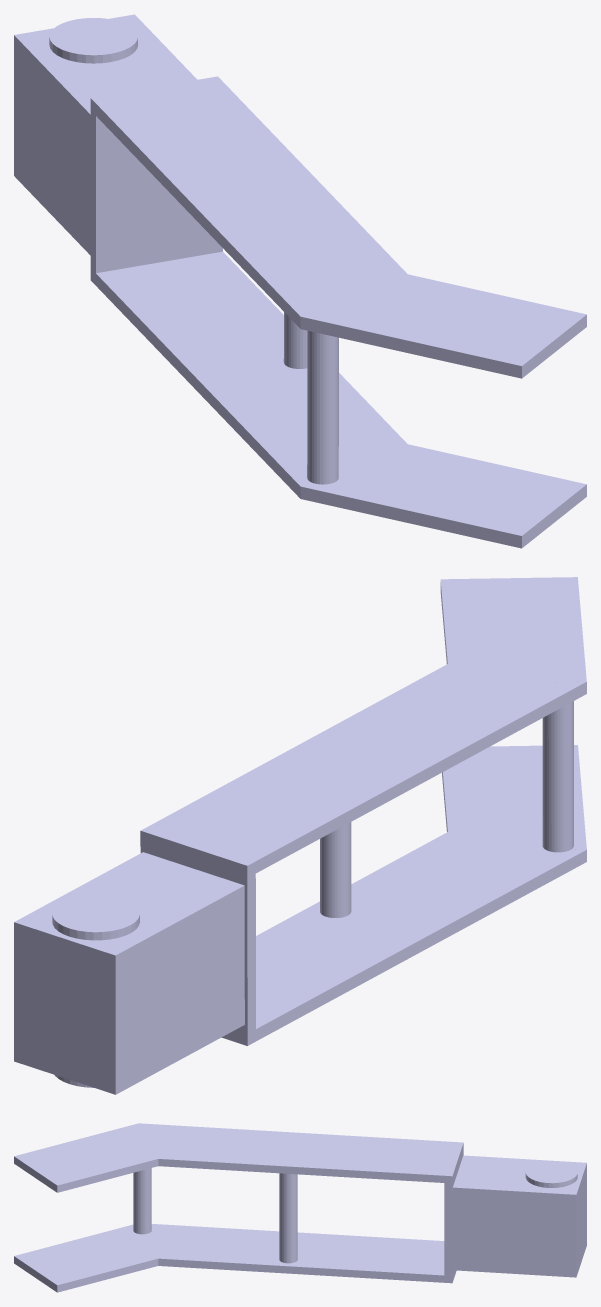
File: dbAlpha_URDF_Leg_Abdomen_RearRight_Link2__98__.dae
The picture shows the model from 3 angles, top to bottom: view 1: azimuth 30°, elevation 25°; view 2: azimuth 150°, elevation 25°; view 3: azimuth 270°, elevation 25°; orthographic projection. The views are drawn at different scales.
Visible parts, largest first — view 1: Node_0x7f7afcedb3f0 (×9); view 2: Node_0x7f7afcedb3f0 (×9); view 3: Node_0x7f7afcedb3f0 (×9).
Part boxes in pixels (box(x1,y1,x2,y2)): Node_0x7f7afcedb3f0 (×9): box(14, 14, 586, 548); Node_0x7f7afcedb3f0 (×9): box(14, 577, 586, 1094); Node_0x7f7afcedb3f0 (×9): box(14, 1123, 586, 1292).
Bounding box in the file's own units: 0.0549 × 0.044 × 0.2134.
